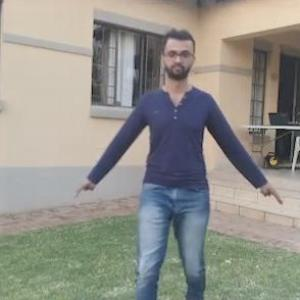land: (97, 51, 243, 299)
